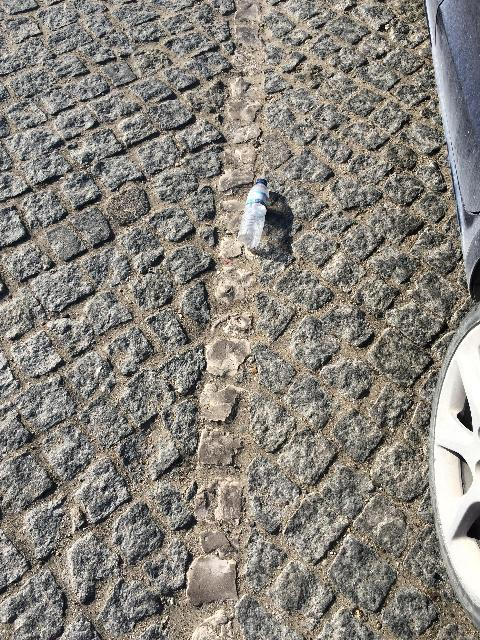plastic: (237, 178, 269, 248)
